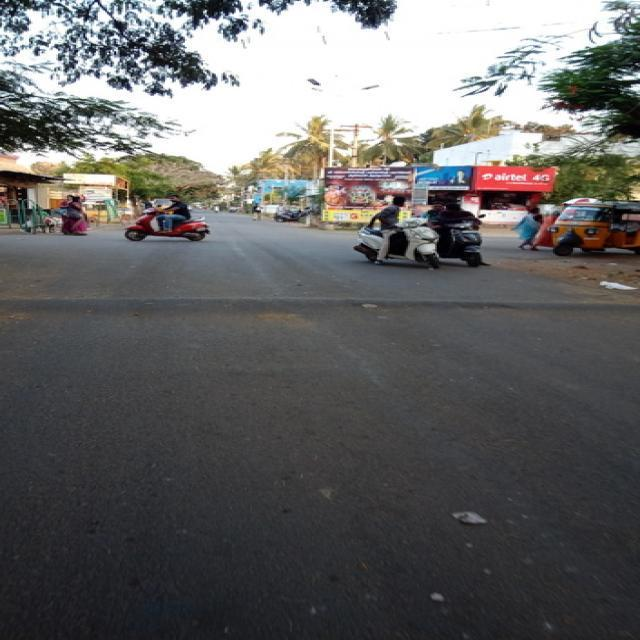NonMarked Bump: (19, 282, 614, 322)
